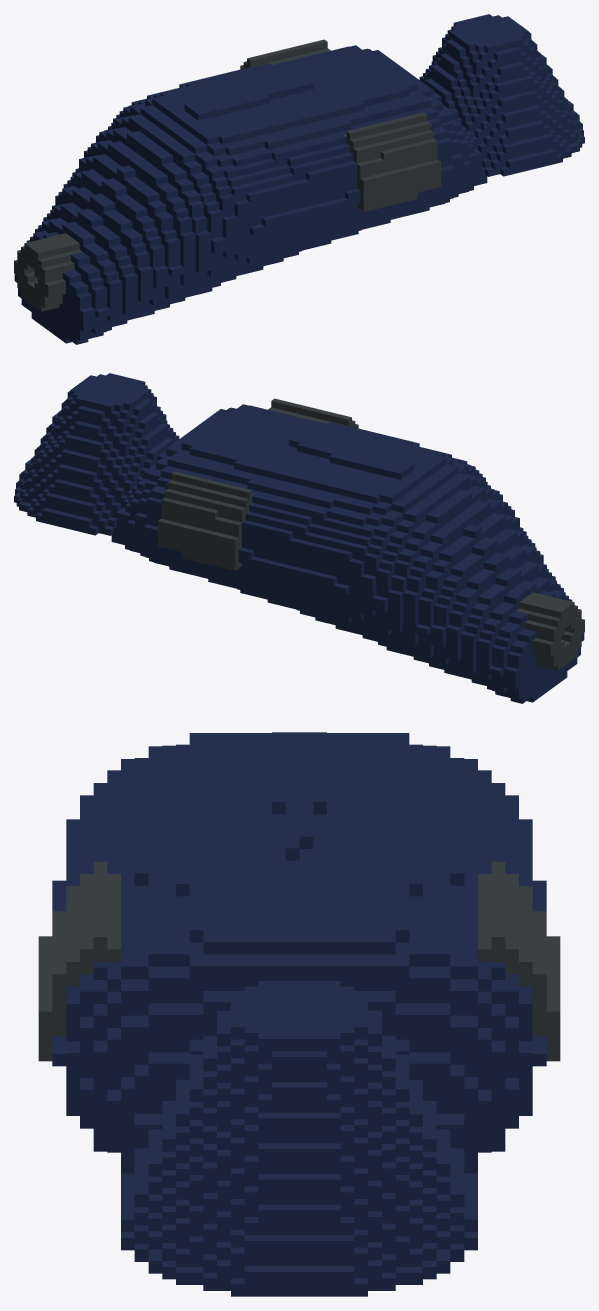
Rendered from police_helicopter_engine_cowl.glb.
3 views of the same model, one above another, from view 1: azimuth 30°, elevation 25°; view 2: azimuth 150°, elevation 25°; view 3: azimuth 270°, elevation 25° (orthographic). The views are drawn at different scales.
Visible parts, largest first — view 1: body:compound; view 2: body:compound; view 3: body:compound.
Boxes of the visible parts, x1,y1,x2,y2 form: body:compound: (14, 14, 584, 344); body:compound: (14, 373, 584, 703); body:compound: (38, 732, 560, 1296).
Bounding box in the file's own units: 2.81 × 0.9688 × 1.19.
